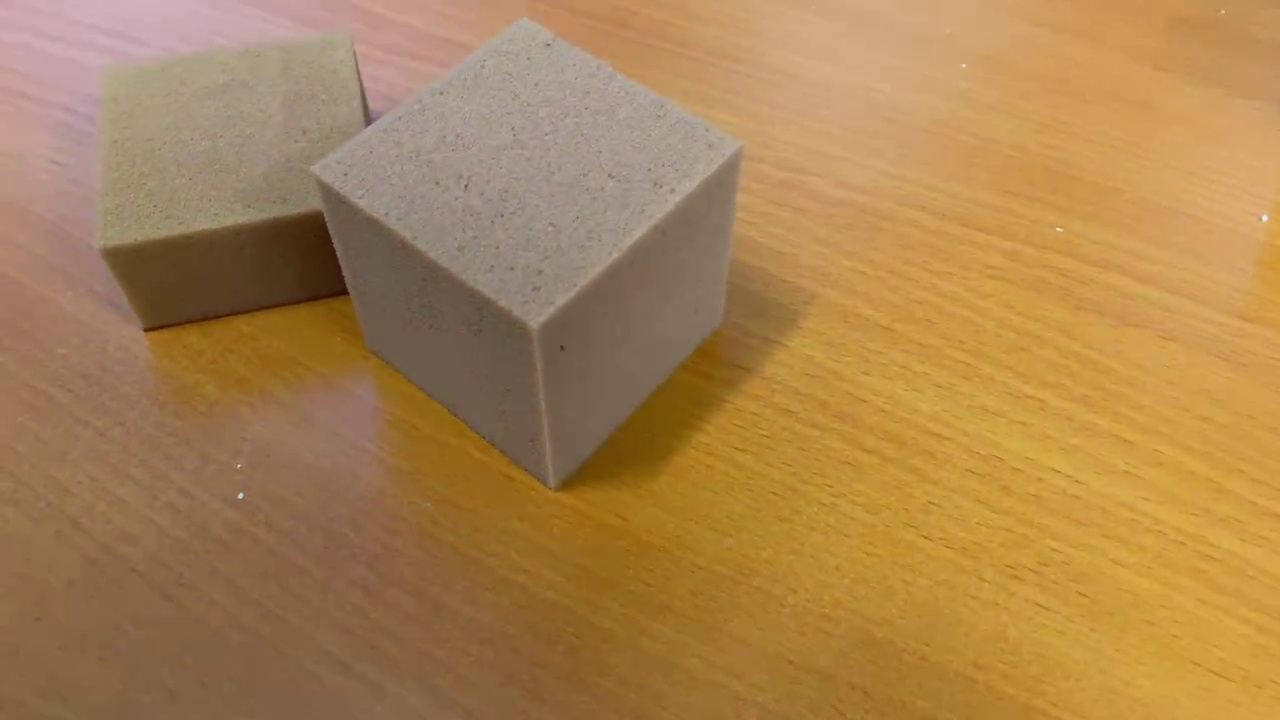Cube: (299, 5, 749, 500)
Cube_short: (93, 26, 375, 340)
